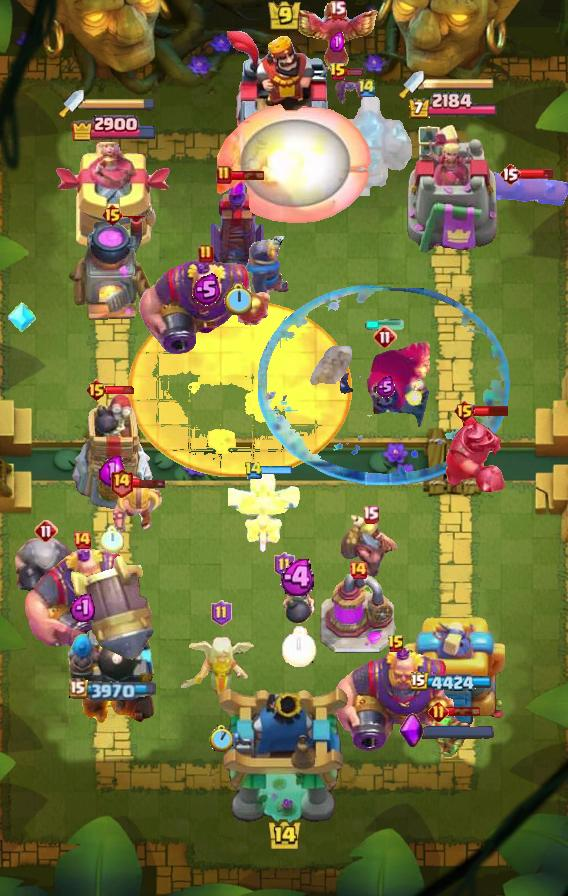bandit: (341, 513, 399, 581)
bar: (55, 142, 173, 256), (406, 122, 500, 256), (401, 611, 505, 731)
barbarian-barrel: (331, 76, 369, 104)
cannoneer-tower: (322, 93, 412, 197)
electro-spirit: (280, 559, 320, 596), (192, 274, 220, 307), (99, 454, 125, 487), (69, 592, 94, 622), (376, 376, 395, 398), (330, 32, 344, 52)
elixir: (282, 625, 318, 666), (224, 283, 252, 315), (100, 527, 124, 554), (209, 725, 233, 752)
emote: (473, 403, 510, 416), (518, 168, 554, 180), (230, 169, 266, 181), (131, 477, 167, 489), (446, 707, 481, 718), (260, 465, 294, 476), (105, 385, 137, 395), (344, 67, 363, 77)
firecracker: (246, 235, 290, 301)
fisherman: (310, 346, 352, 392)
giant-snowball: (429, 715, 473, 759)
goblin-giant: (110, 482, 164, 536)
golden-knight: (291, 2, 383, 78)
hunter: (67, 216, 157, 324)
ice-golem: (281, 568, 317, 626)
ice-spirit: (365, 319, 405, 331)
ice-spirit-evolution-symbol: (208, 176, 268, 272)
inferno-tower: (340, 339, 430, 429)
king-tower: (216, 684, 352, 826), (223, 31, 345, 181)
king-tower-bar: (424, 77, 496, 91), (84, 97, 156, 111), (422, 725, 494, 739)
lightning: (333, 647, 459, 753), (138, 258, 274, 356), (21, 548, 142, 654)
mini-pekka: (228, 466, 304, 556)
minion: (470, 171, 568, 207)
pad_0: (258, 283, 512, 485)
pad_2: (8, 300, 36, 334)
pekka: (319, 573, 397, 655)
phoenix-egg: (128, 300, 352, 477)
poison: (177, 626, 265, 706)
royal-guardian: (443, 411, 513, 495), (11, 533, 81, 597)
selected: (407, 92, 499, 121), (70, 113, 158, 141), (69, 678, 159, 701), (412, 672, 497, 694)
skeleton-king-skill: (399, 712, 425, 748)
text: (110, 466, 135, 497), (373, 325, 397, 349), (34, 519, 58, 543), (273, 552, 295, 578), (211, 600, 233, 626), (100, 203, 123, 227), (84, 378, 107, 402), (452, 399, 475, 423), (499, 162, 521, 186), (428, 701, 449, 723), (357, 77, 377, 98), (72, 530, 92, 550), (348, 560, 368, 580), (244, 461, 264, 480), (329, 62, 347, 82), (387, 634, 405, 654), (329, 1, 346, 20), (361, 505, 378, 524), (216, 165, 232, 185), (198, 244, 214, 264)
tower-bar: (67, 611, 161, 731)
valkyrie: (217, 104, 373, 224)
x-bow: (70, 554, 154, 661)
zappy: (69, 392, 154, 514)
